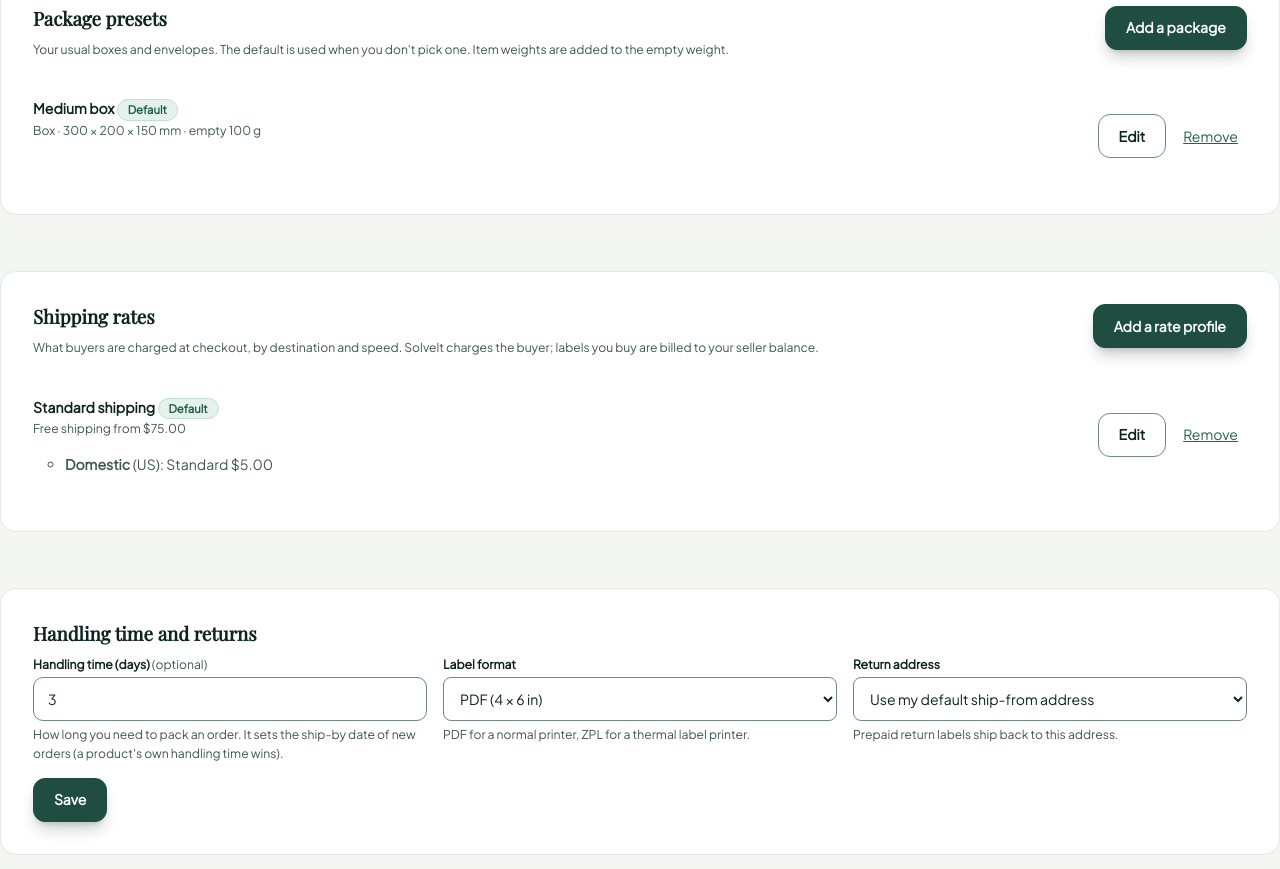
Test: Settings → Shipping › saves handling time, label format and the return address
(page scrolled)
Replace the text in the number field labelled "Handling time (days) (optional)" with "40" at (230, 699), box [33,677,427,721]
(page scrolled)
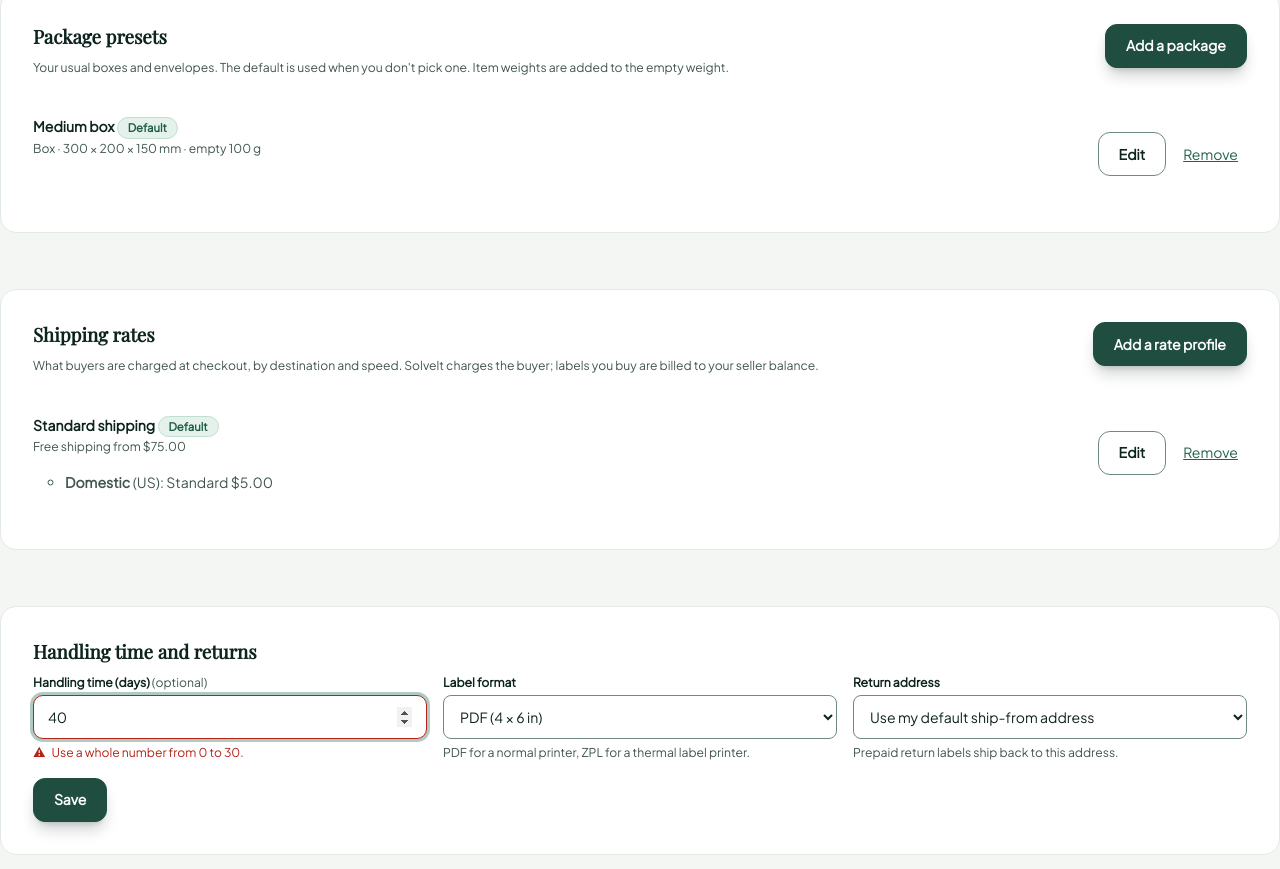
Now the text "Use a whole number from 0 to 30." is shown, box [52,744,244,760]
Clear the number field labelled "Handling time (days) (optional)" at (230, 717), box [33,695,427,739]
(page scrolled)
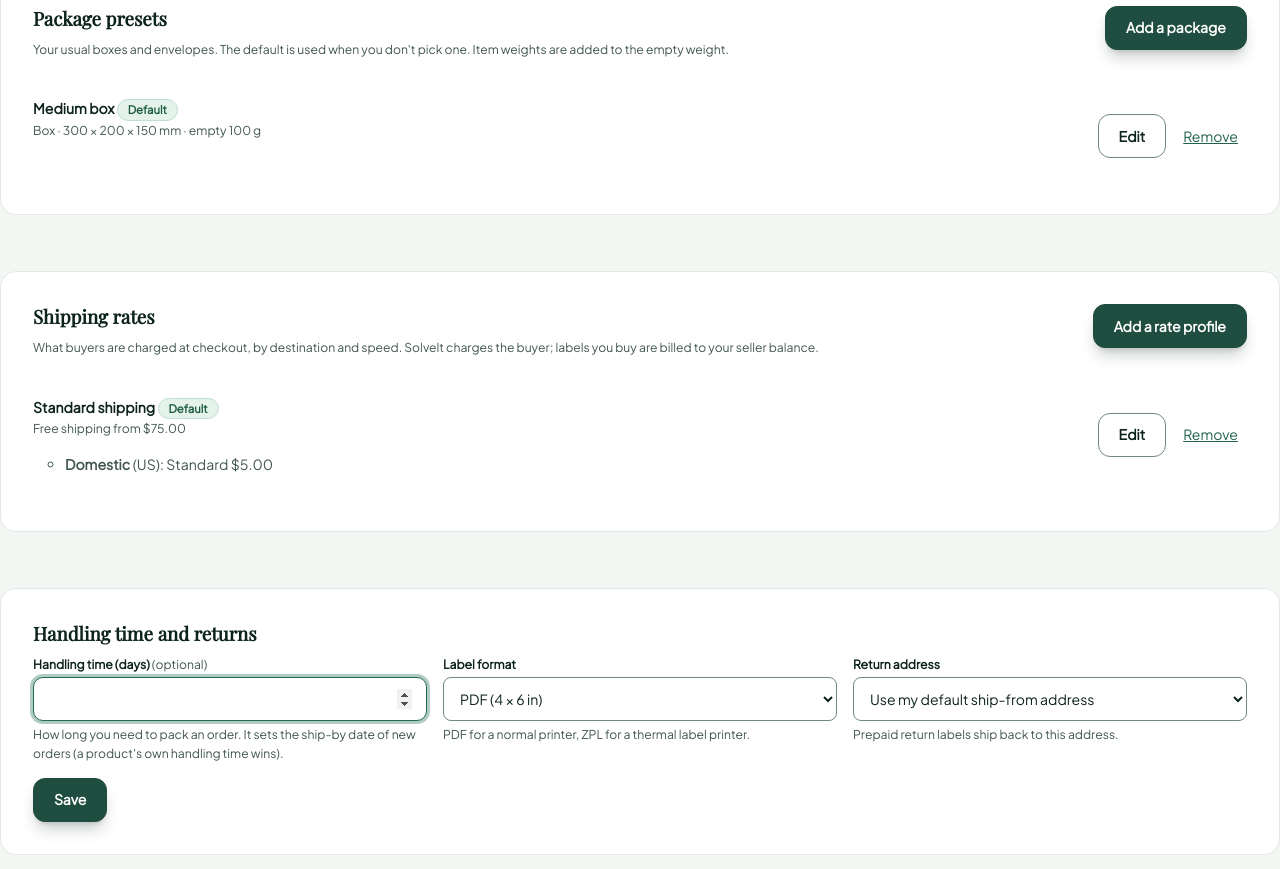
Type "5" into the number field labelled "Handling time (days) (optional)".
click(230, 699); type("5")  # box [33,677,427,721]
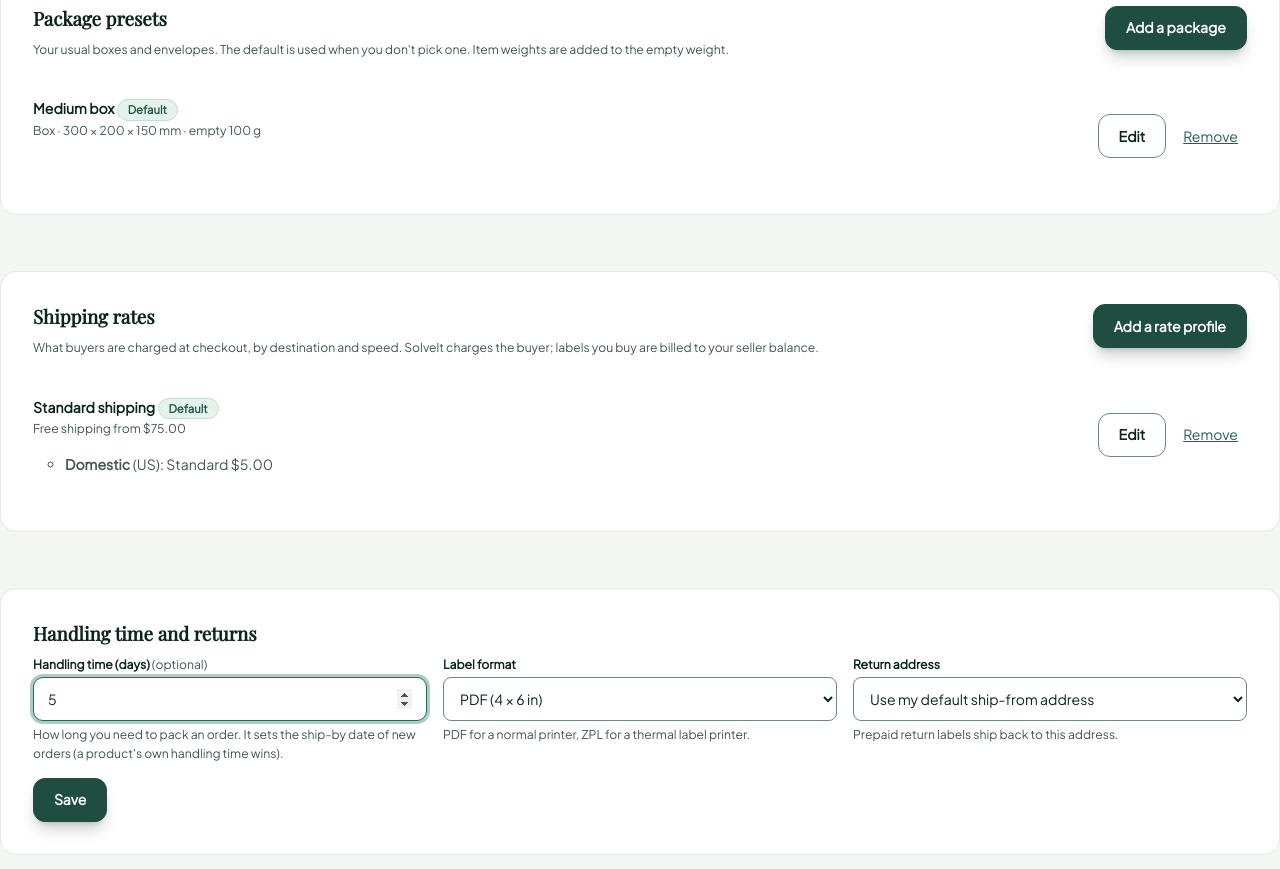
Select "ZPL (thermal printer)" in the dropdown labelled "Label format" at (640, 699), box [443,677,837,721]
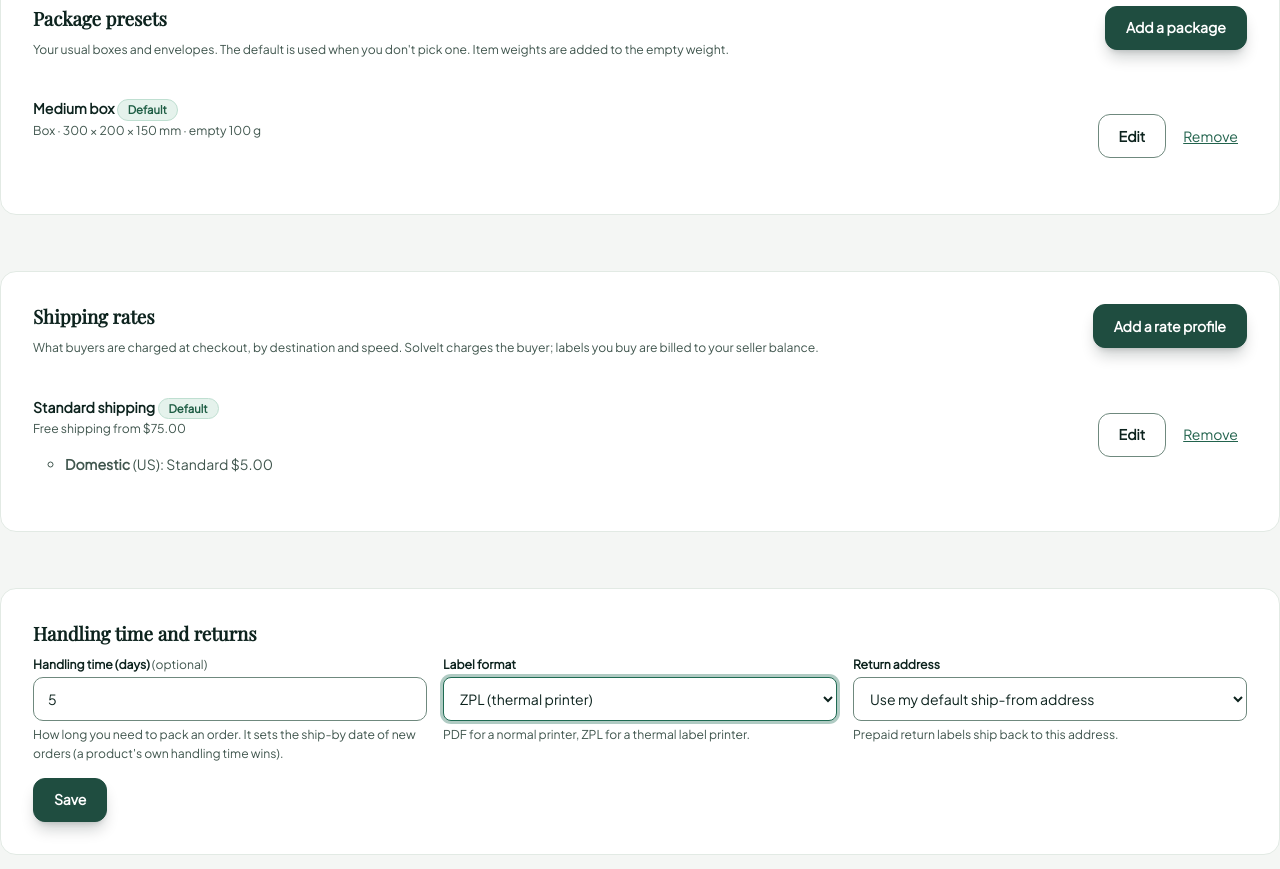
Select "Warehouse – 10 Warehouse Rd, Brooklyn" in the dropdown labelled "Return address" at (1050, 699), box [853,677,1247,721]
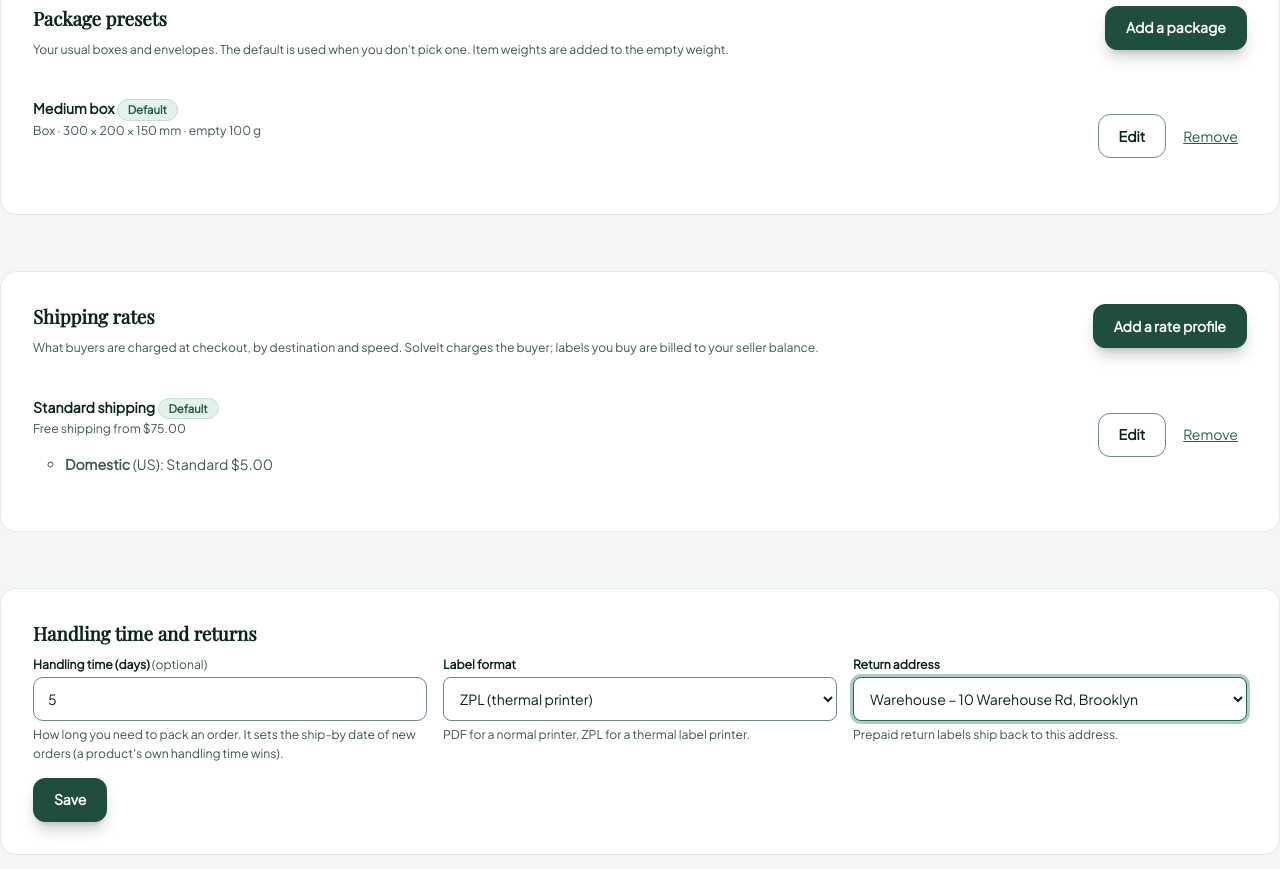
Click the button "Save".
click(70, 800)  # box [33,778,108,822]
(page scrolled)
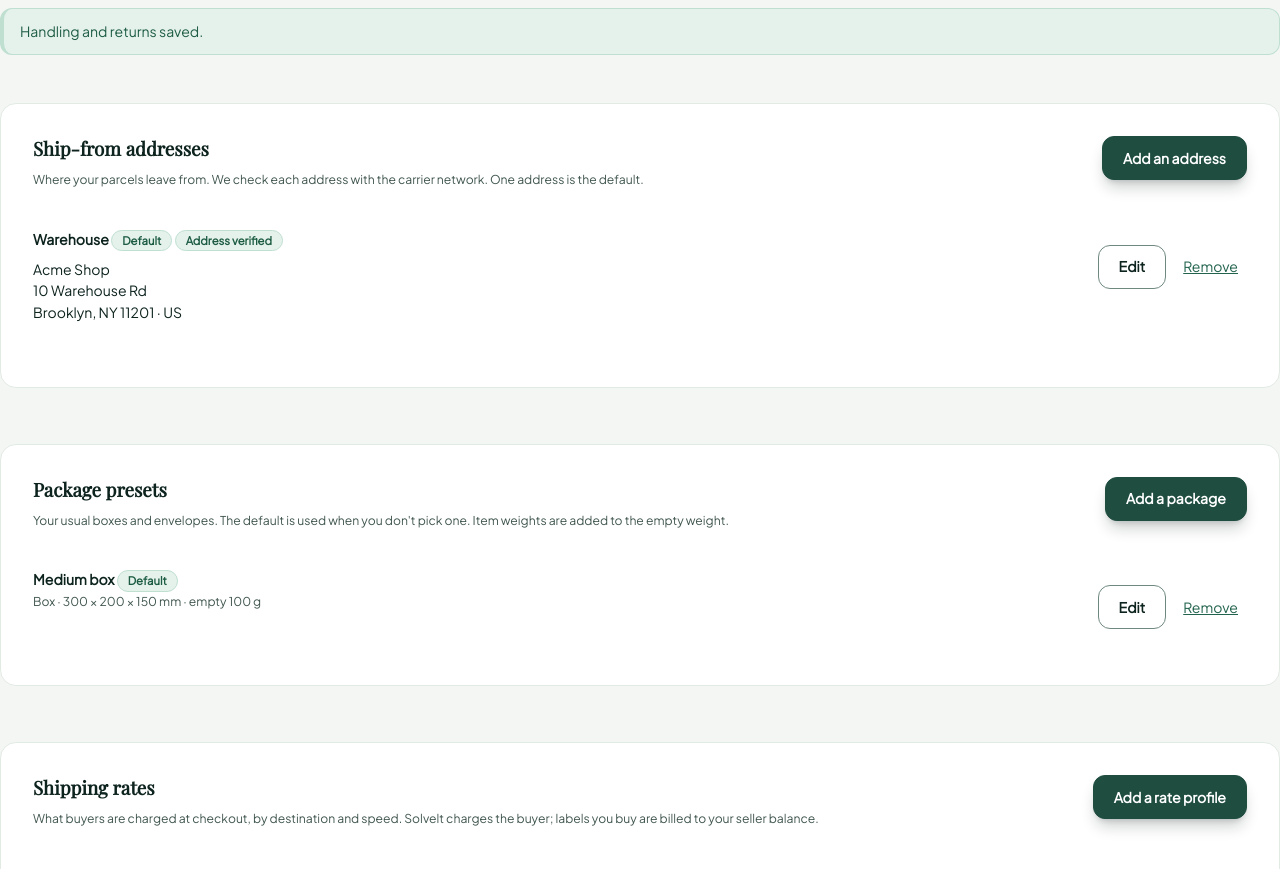
Now the text "Handling and returns saved." is shown, box [0,8,1279,55]
